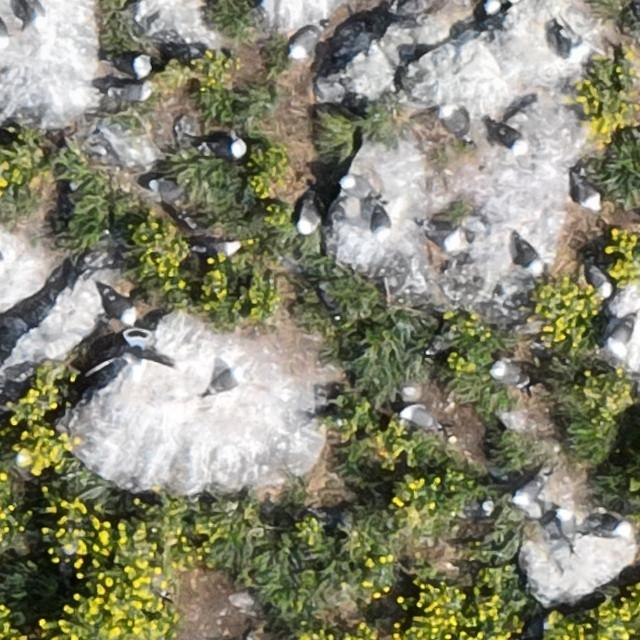F: (96, 330, 171, 385)
umineko: (489, 350, 541, 396), (206, 362, 249, 404), (288, 24, 324, 61), (587, 512, 626, 543), (15, 1, 54, 31), (426, 223, 466, 250), (372, 204, 396, 243), (106, 292, 136, 322), (440, 109, 469, 140), (401, 407, 439, 428), (512, 478, 542, 503), (207, 138, 245, 157), (341, 179, 379, 198), (297, 202, 318, 234), (496, 126, 524, 150), (578, 182, 600, 212), (462, 500, 494, 520), (200, 238, 240, 254), (588, 265, 610, 294), (115, 85, 151, 102), (519, 242, 541, 268), (556, 509, 574, 539), (557, 30, 572, 58), (132, 56, 151, 78), (483, 0, 500, 13), (0, 18, 7, 44)
